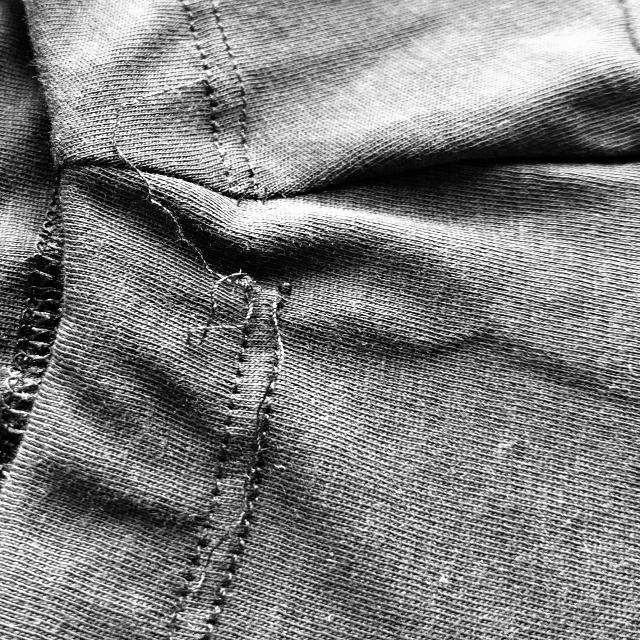Sewing_error: (144, 290, 272, 388)
